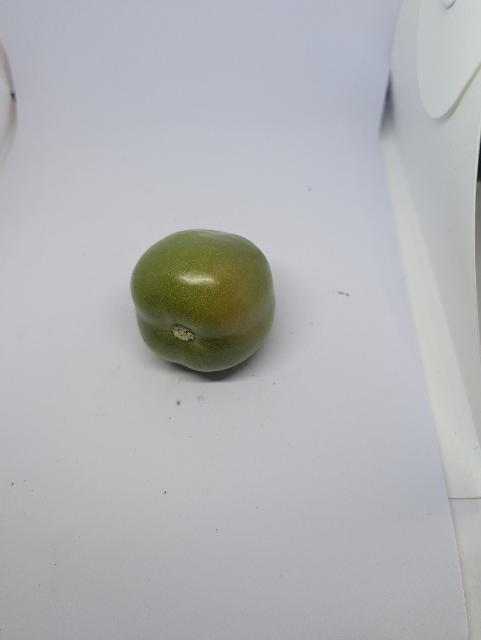green: (128, 226, 279, 374)
